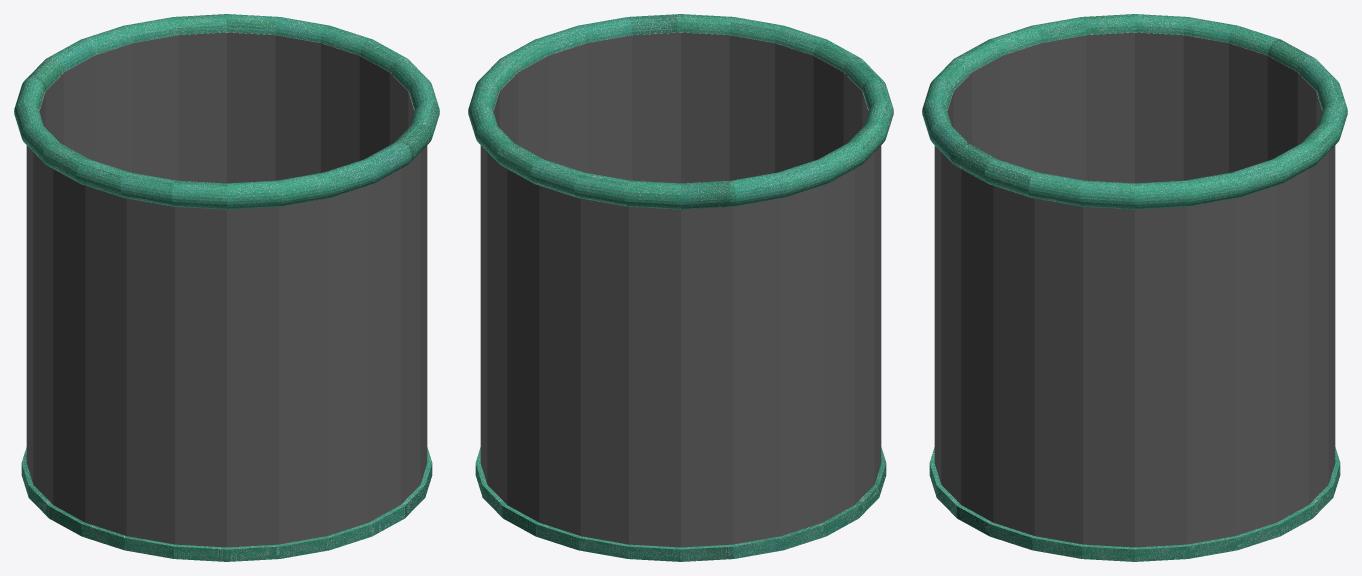
3 renders of one model, left to right at view 1: azimuth 30°, elevation 25°; view 2: azimuth 150°, elevation 25°; view 3: azimuth 270°, elevation 25°, orthographic.
Visible parts, largest first — view 1: mesh1_mesh1-geometry; view 2: mesh1_mesh1-geometry; view 3: mesh1_mesh1-geometry.
Boxes of the visible parts, x1=… form: mesh1_mesh1-geometry: x1=14, y1=14, x2=439, y2=561; mesh1_mesh1-geometry: x1=468, y1=14, x2=893, y2=561; mesh1_mesh1-geometry: x1=922, y1=14, x2=1347, y2=561.
Bounding box in the file's own units: 0.5826 × 0.5668 × 0.5826.
